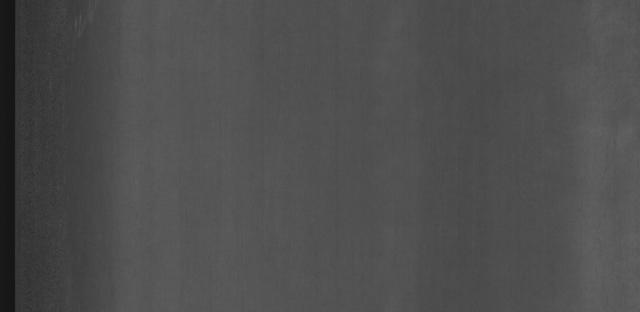silk_spot: (34, 11, 114, 107)
